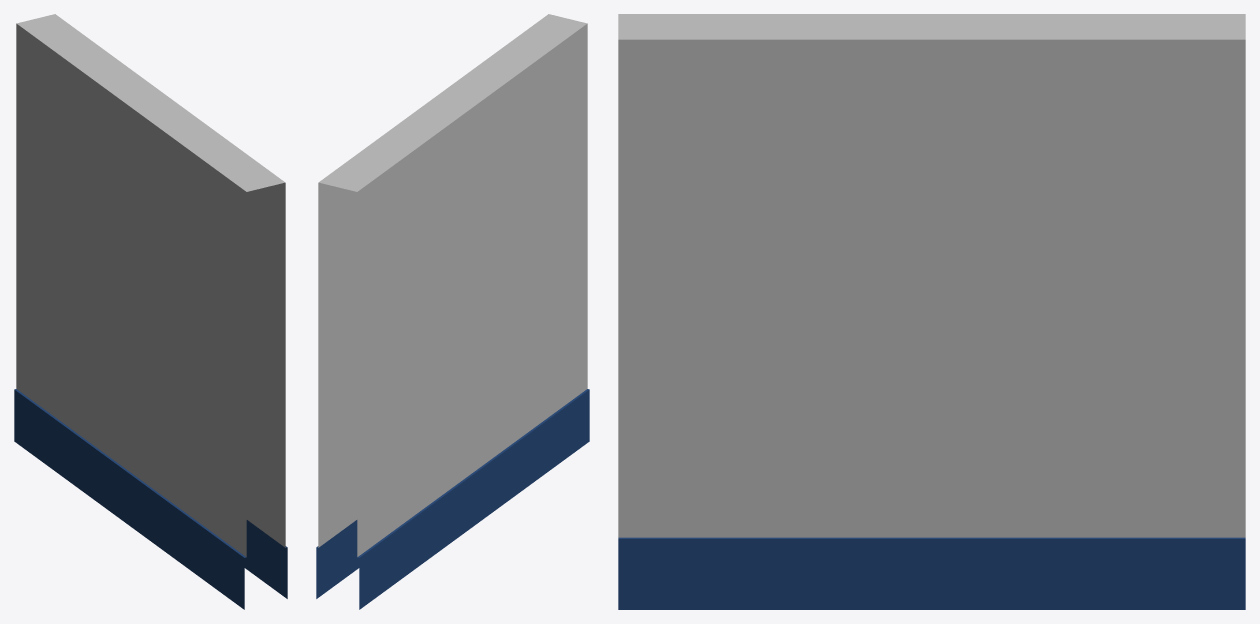
File: Parede.fbx
3 renders of one model, left to right at view 1: azimuth 30°, elevation 25°; view 2: azimuth 150°, elevation 25°; view 3: azimuth 270°, elevation 25°, orthographic. The views are drawn at different scales.
Parts seen in each view (by area): view 1: Cubo.009; view 2: Cubo.009; view 3: Cubo.009.
Boxes of the visible parts, left/top/right/bottom form: Cubo.009: left=14, top=14, right=287, bottom=609; Cubo.009: left=316, top=14, right=589, bottom=609; Cubo.009: left=618, top=14, right=1245, bottom=609.
Bounding box in the file's own units: 54.17 × 500 × 500.
